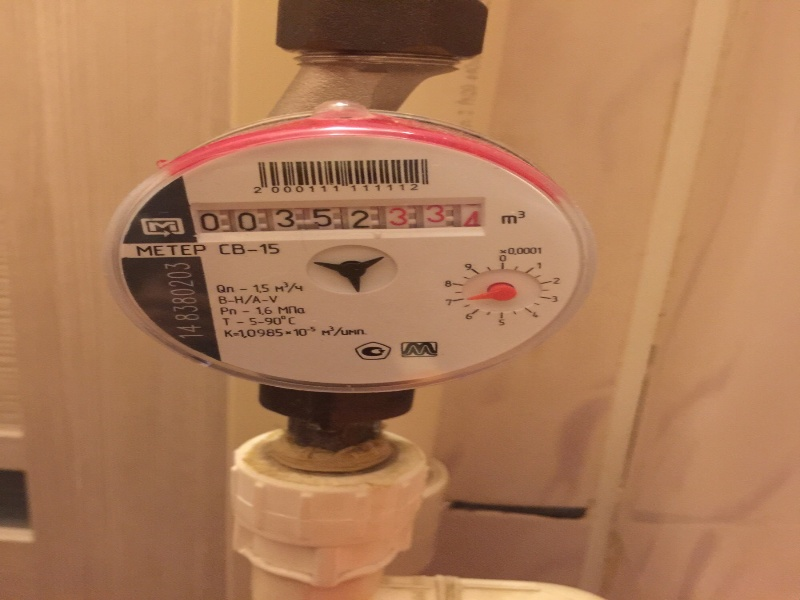dial: (183, 197, 495, 235)
